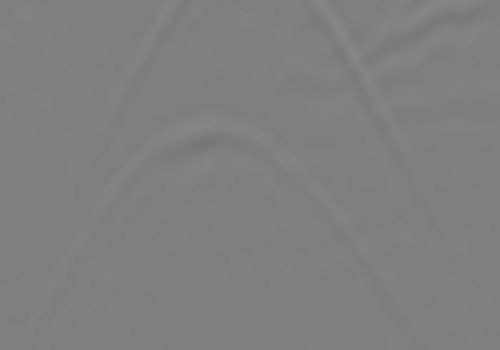hyperbola: (68, 119, 380, 292)
